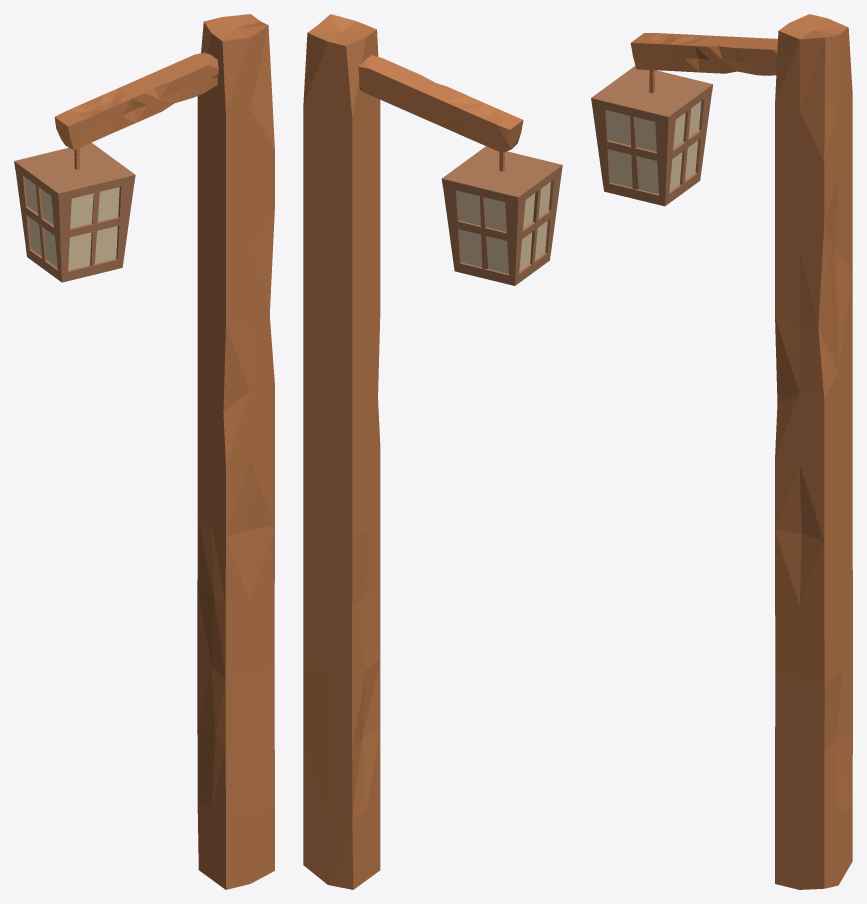
File: street_lamp.glb
3 renders of one model, left to right at view 1: azimuth 30°, elevation 25°; view 2: azimuth 150°, elevation 25°; view 3: azimuth 330°, elevation 25°, orthographic.
Visible parts, largest first — view 1: Cube.011; view 2: Cube.011; view 3: Cube.011.
Boxes of the visible parts, box(x1,y1,x2,y2) form: Cube.011: box(14, 14, 274, 889); Cube.011: box(303, 14, 562, 889); Cube.011: box(591, 14, 852, 889).
Size of the model in its own units: 158 by 573 by 54.34.
